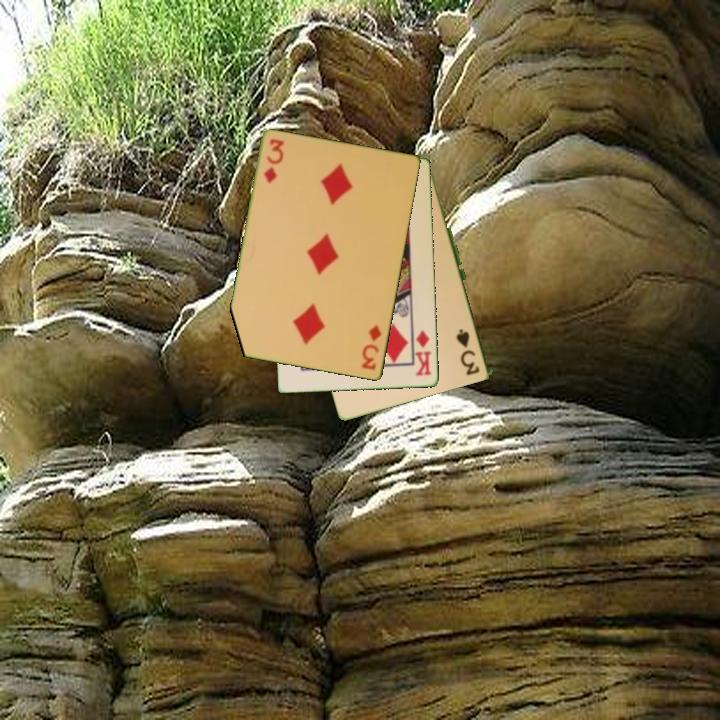3d: (260, 136, 287, 187), (358, 321, 384, 373)
3s: (455, 325, 483, 378)
Kd: (412, 326, 434, 379)
